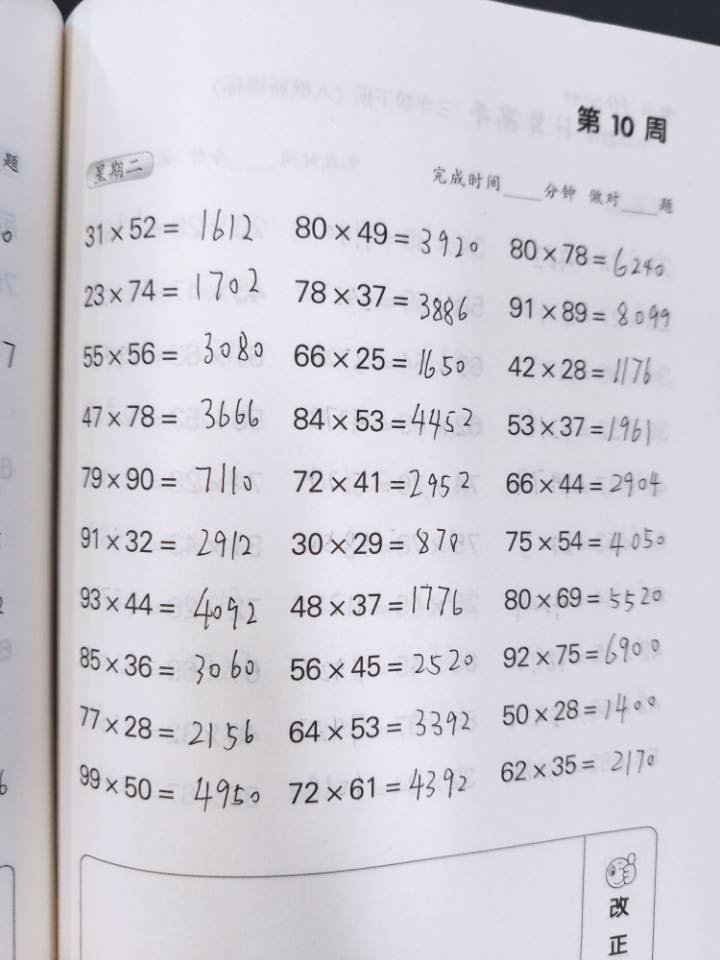equation: (328, 313, 390, 585), (284, 305, 343, 587), (423, 315, 480, 603), (569, 597, 622, 877), (381, 321, 435, 593), (196, 303, 247, 583), (239, 588, 290, 865), (238, 311, 289, 588), (476, 303, 524, 593), (565, 323, 616, 595), (430, 597, 479, 876), (519, 312, 567, 592), (334, 603, 382, 869), (288, 600, 334, 873), (515, 595, 560, 869), (471, 599, 517, 867), (146, 611, 196, 856), (192, 601, 240, 856), (153, 301, 195, 584), (212, 45, 258, 296), (381, 600, 424, 865), (515, 67, 562, 303), (555, 77, 602, 305), (469, 61, 510, 312), (295, 73, 340, 301), (344, 64, 385, 308), (255, 68, 297, 301), (386, 51, 423, 312), (430, 60, 468, 309), (173, 41, 209, 301)
